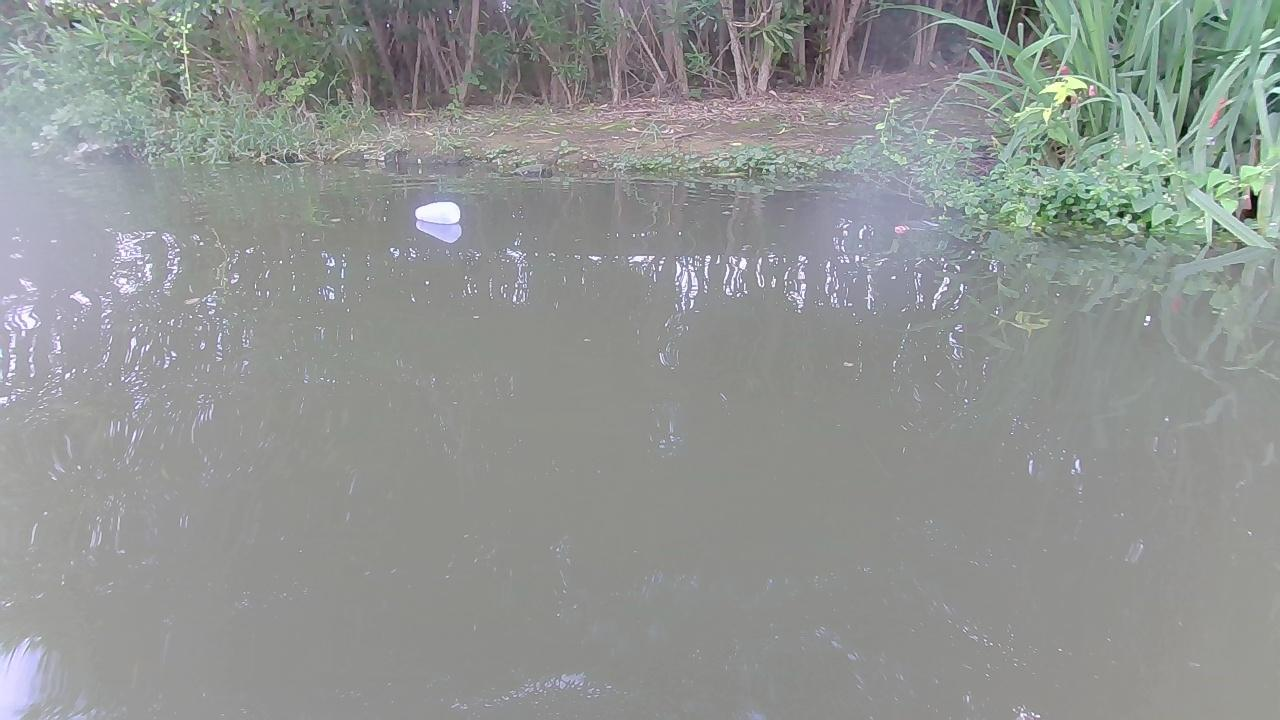bottle: (411, 201, 461, 225)
